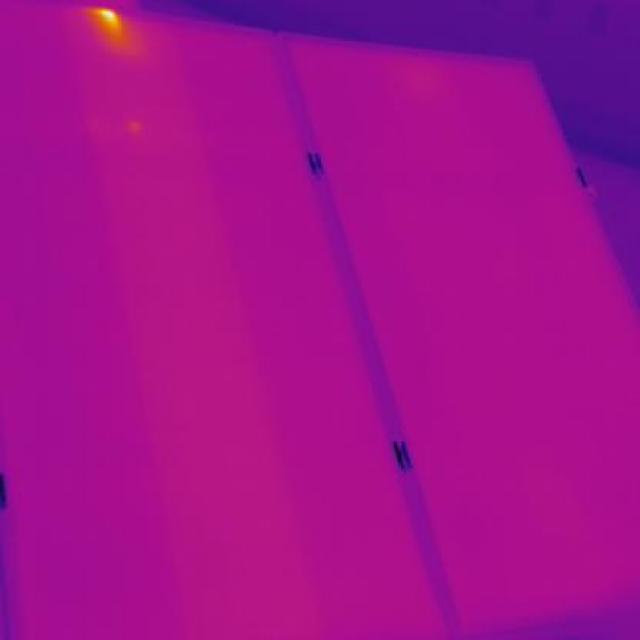hotspot: (89, 5, 142, 50)
